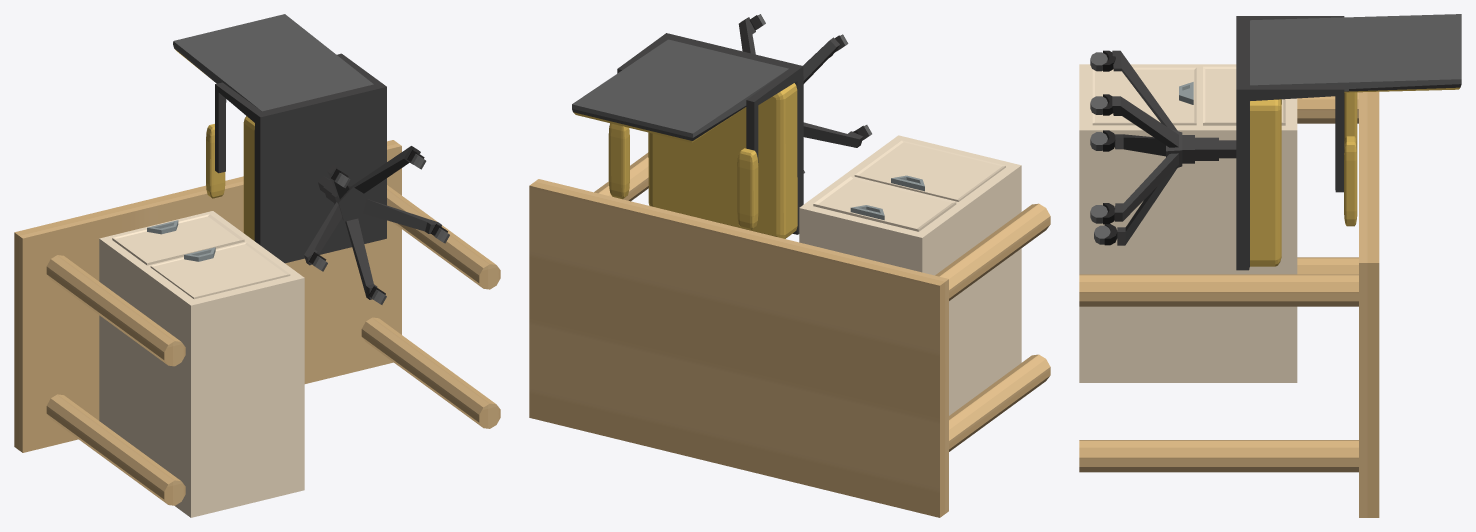
Rendered from WorkingRoom_SmallTable.fbx.
3 renders of one model, left to right at view 1: azimuth 30°, elevation 25°; view 2: azimuth 150°, elevation 25°; view 3: azimuth 270°, elevation 25°, orthographic. The views are drawn at different scales.
Parts seen in each view (by area): view 1: desk.002; view 2: desk.002; view 3: desk.002.
Boxes of the visible parts, bbox=[...] form: desk.002: bbox=[14, 14, 500, 517]; desk.002: bbox=[529, 14, 1050, 517]; desk.002: bbox=[1079, 14, 1461, 517].
Bounding box in the file's own units: 1.85 × 1.55 × 1.36.
